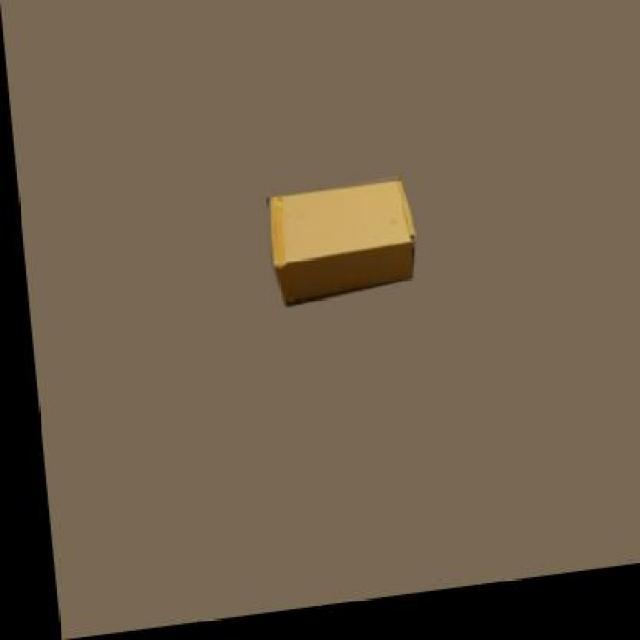box: (262, 188, 412, 308)
